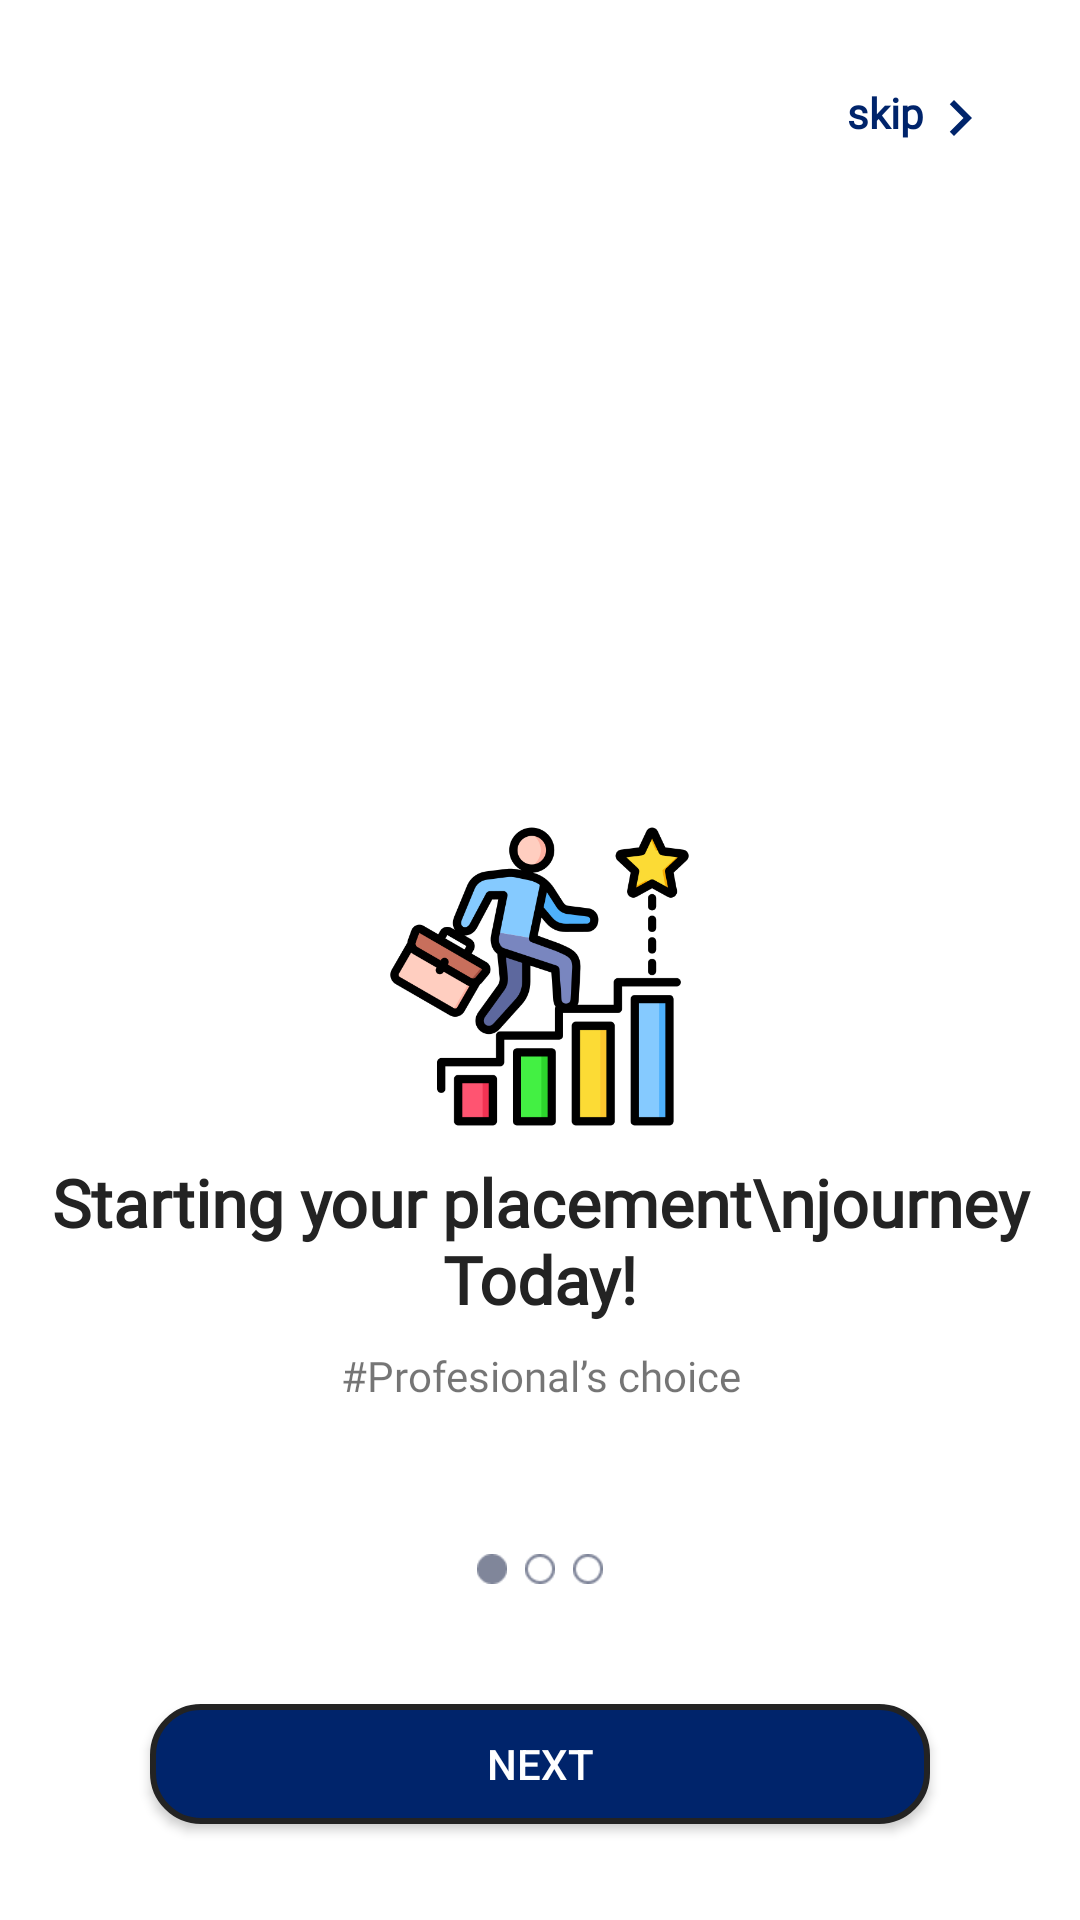

Icons on this 1080 x 1920 Android screen, each with its box as (x1, y1, x2, y2):
next: (950, 100, 972, 136)
on boarding one: (390, 827, 689, 1126)
